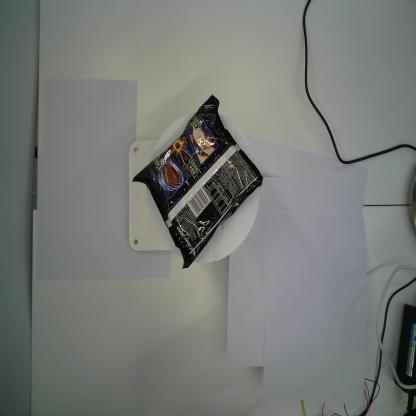Instant Noodles: (132, 93, 264, 272)
